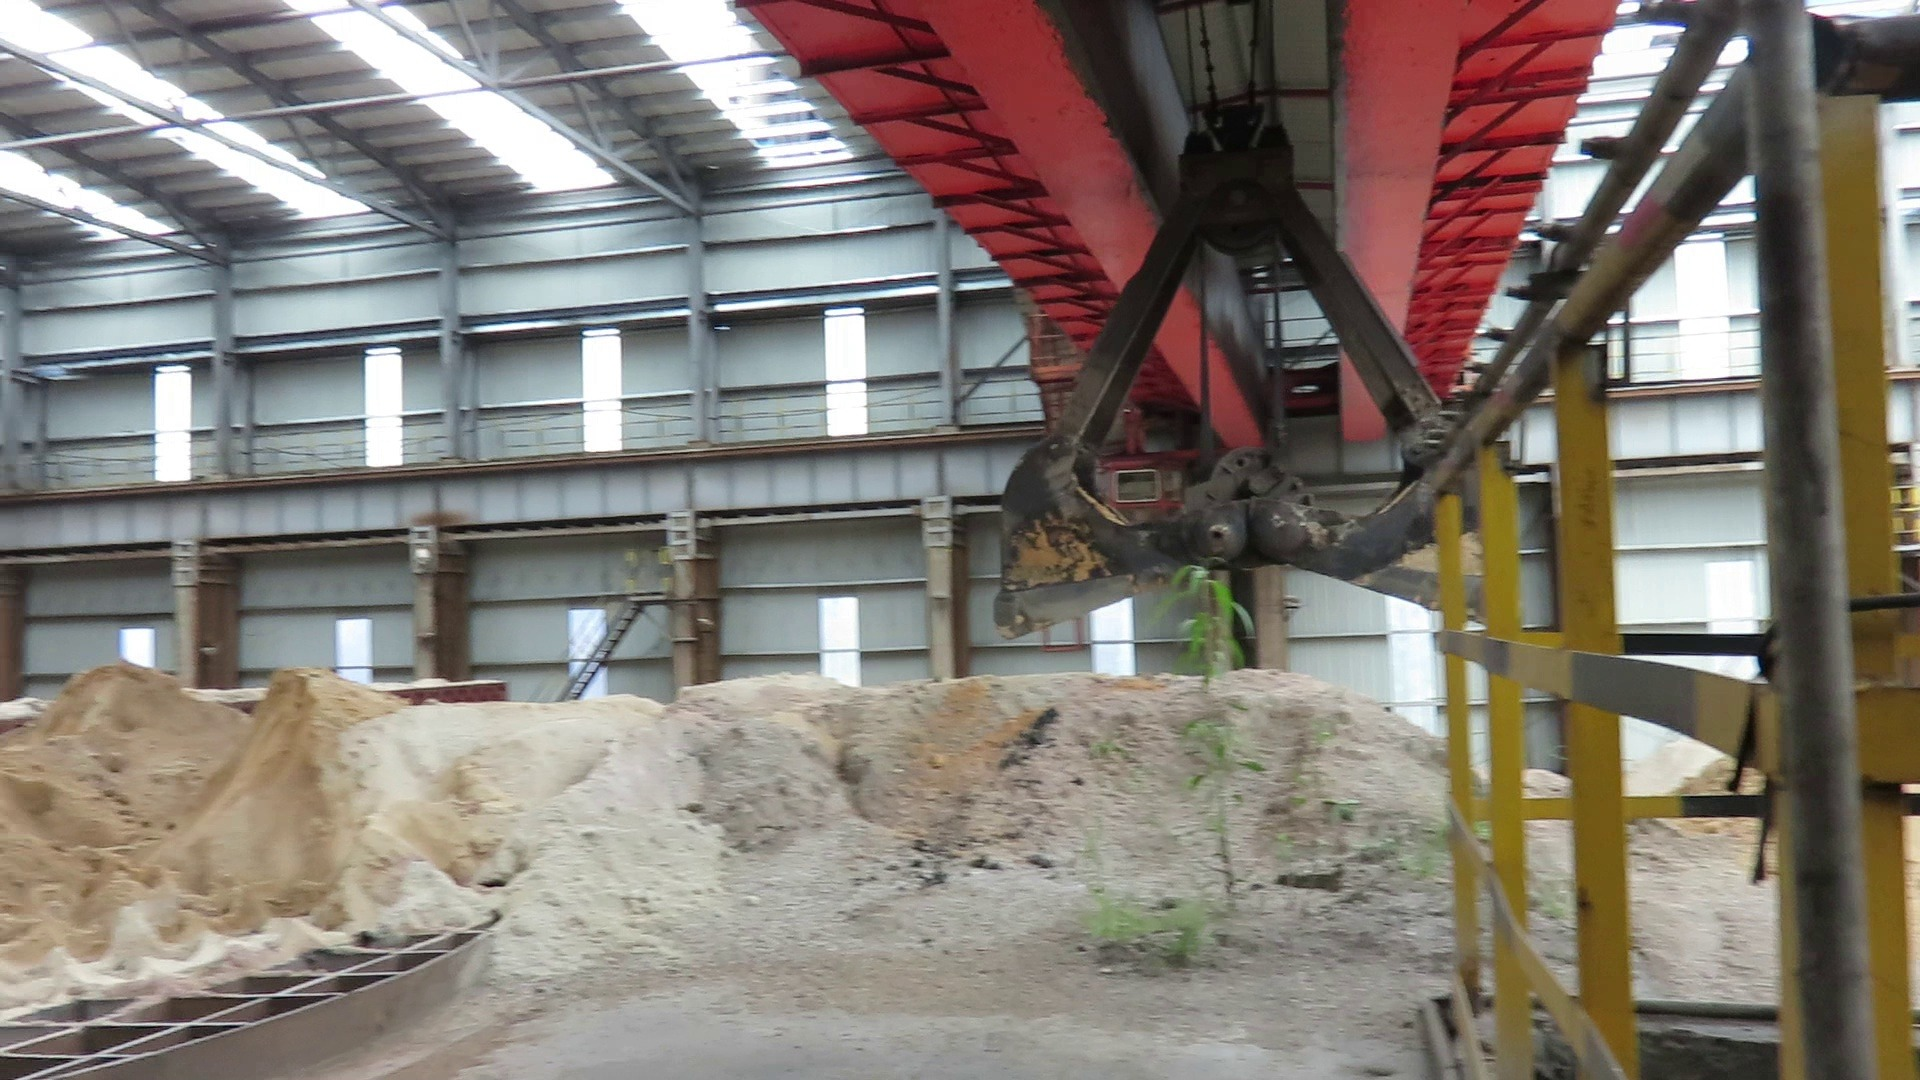grab: (986, 76, 1519, 646)
